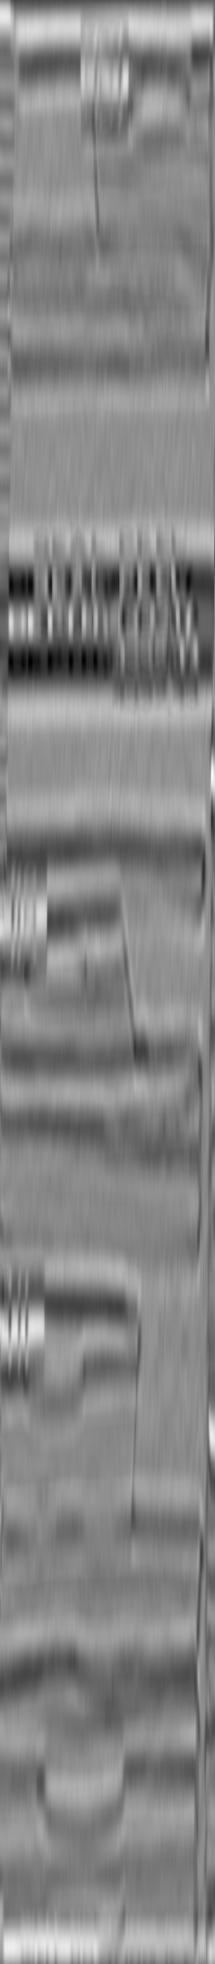hplug: (20, 1333, 91, 1415), (117, 64, 197, 133), (17, 927, 91, 998)
scal: (27, 1739, 137, 1839), (36, 1873, 135, 1964)
vplug: (12, 48, 104, 249), (112, 881, 199, 1066), (130, 1311, 197, 1543)
